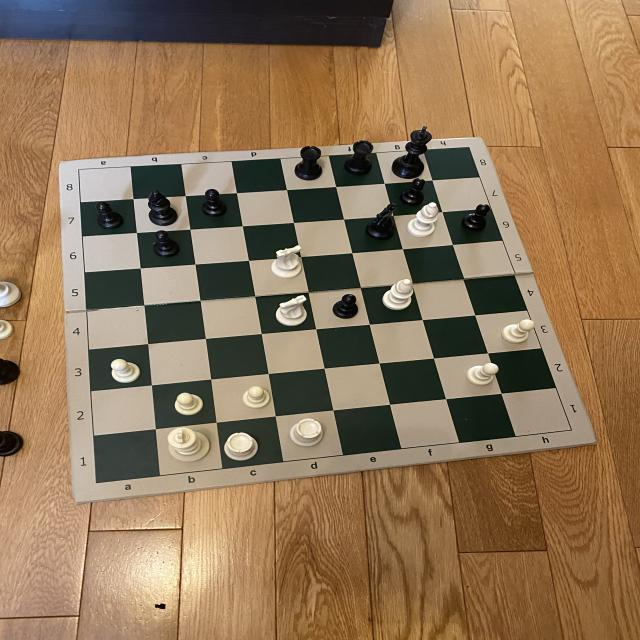Chessboard-Corners: (90, 477, 104, 485), (565, 426, 579, 432), (73, 167, 85, 174), (463, 145, 476, 150)
